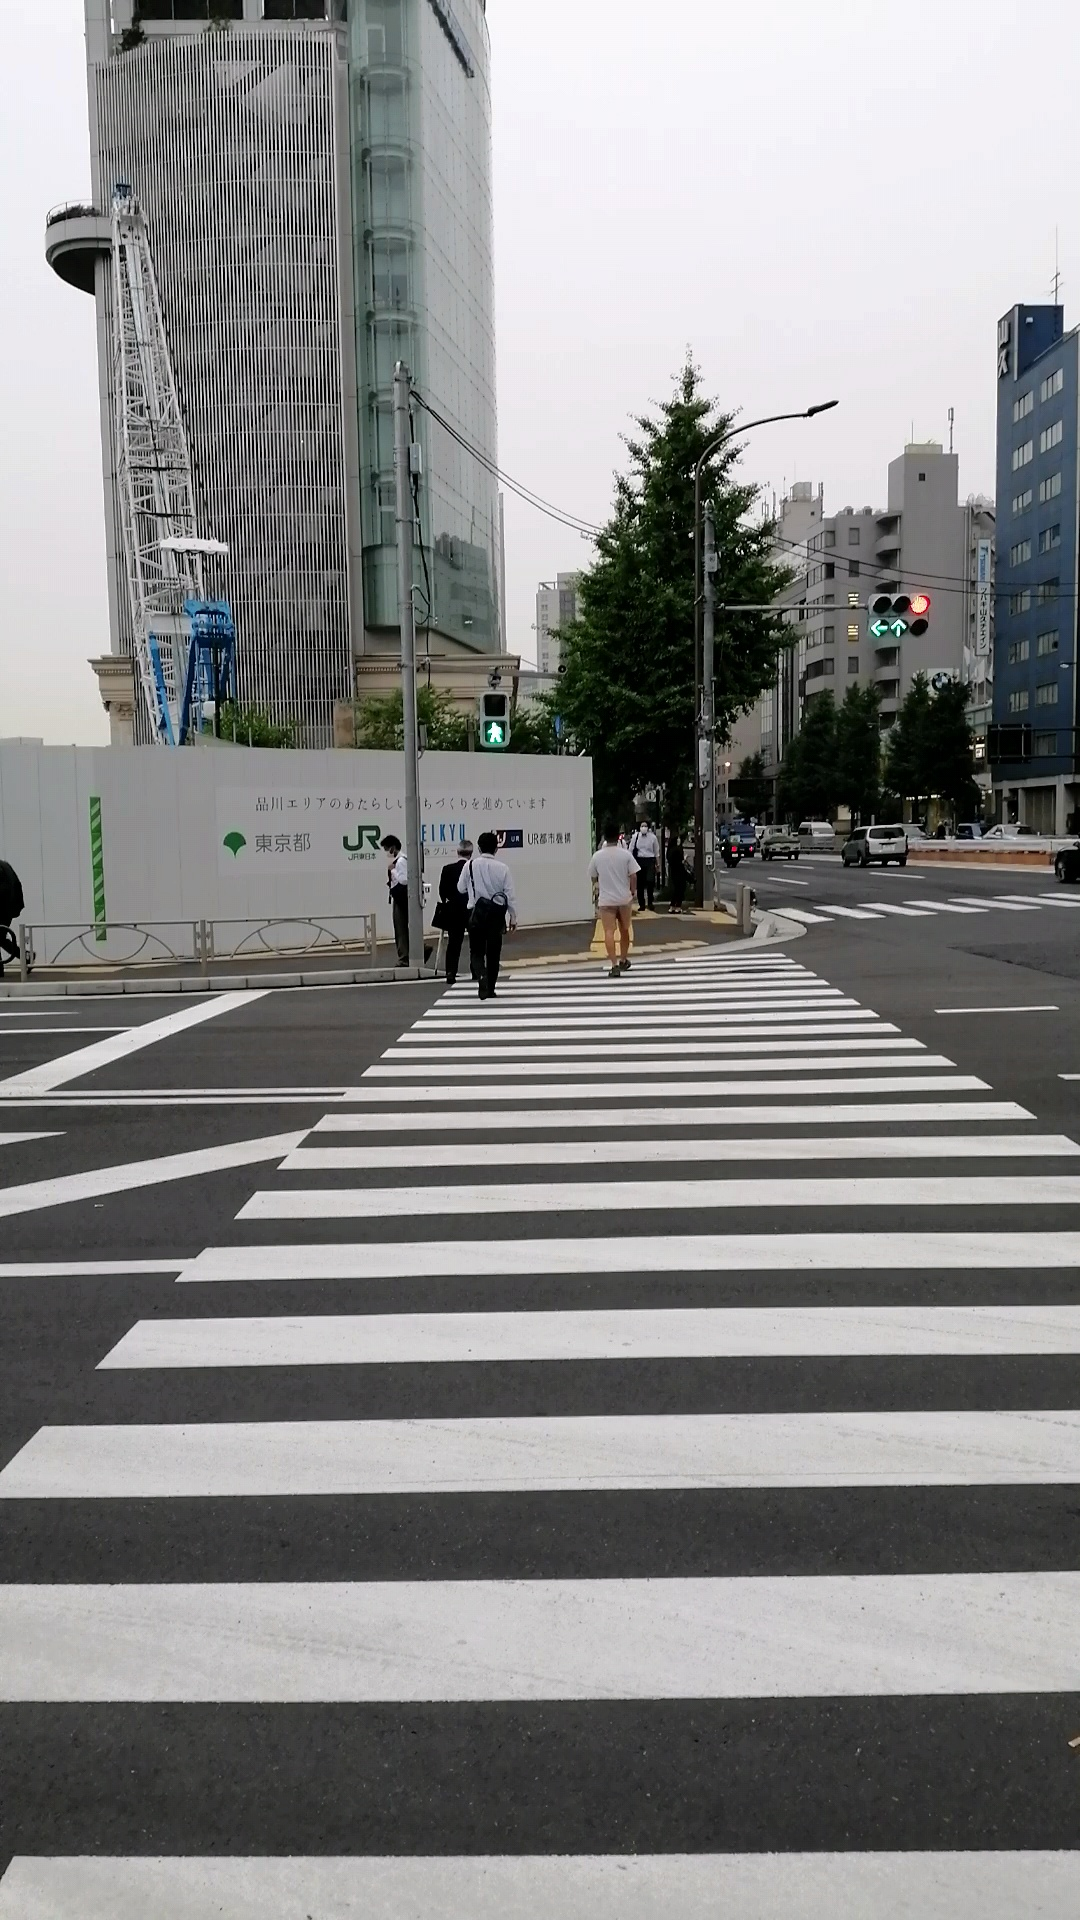green: (477, 691, 510, 748)
